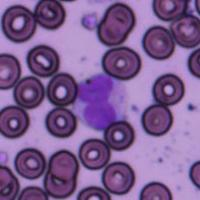M: (72, 72, 129, 130)
